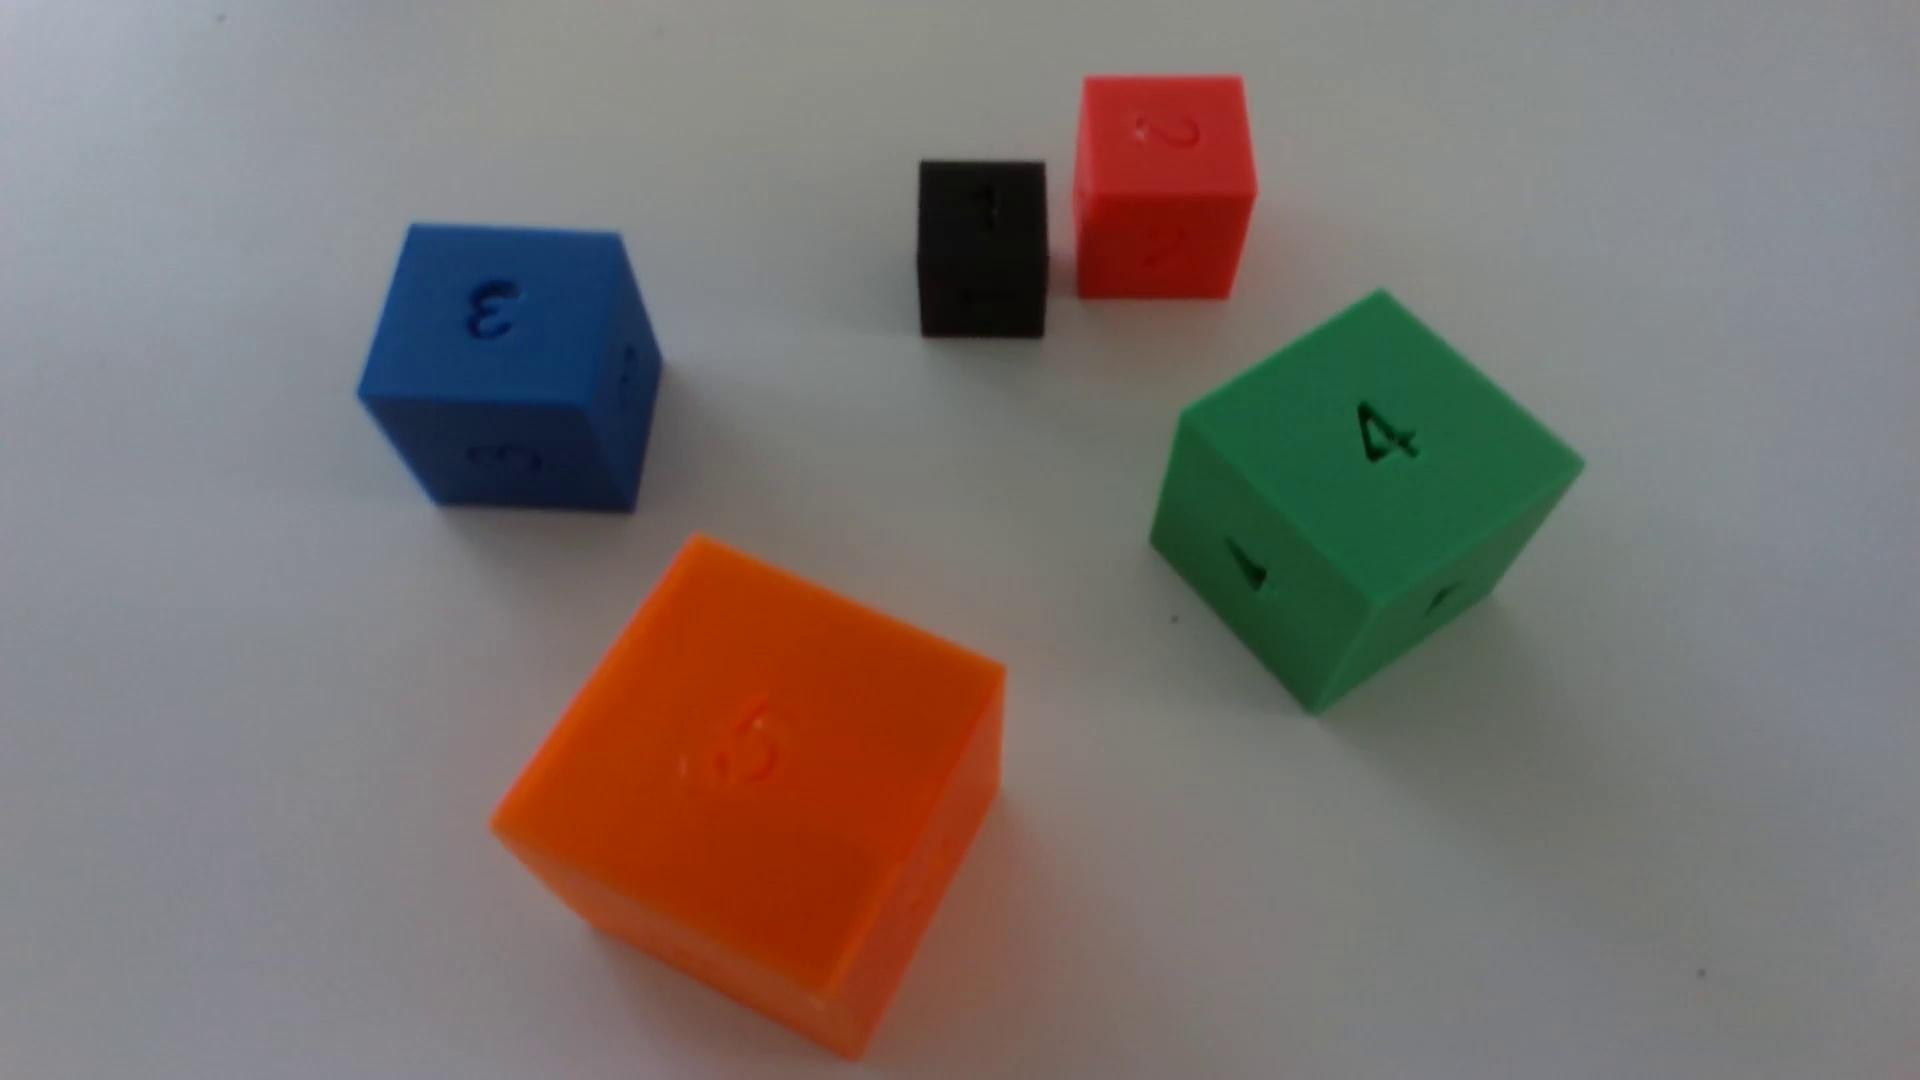black: (915, 161, 1048, 342)
blue: (357, 225, 662, 514)
green: (1150, 293, 1581, 713)
orange: (491, 538, 1005, 1058)
red: (1072, 76, 1257, 302)
